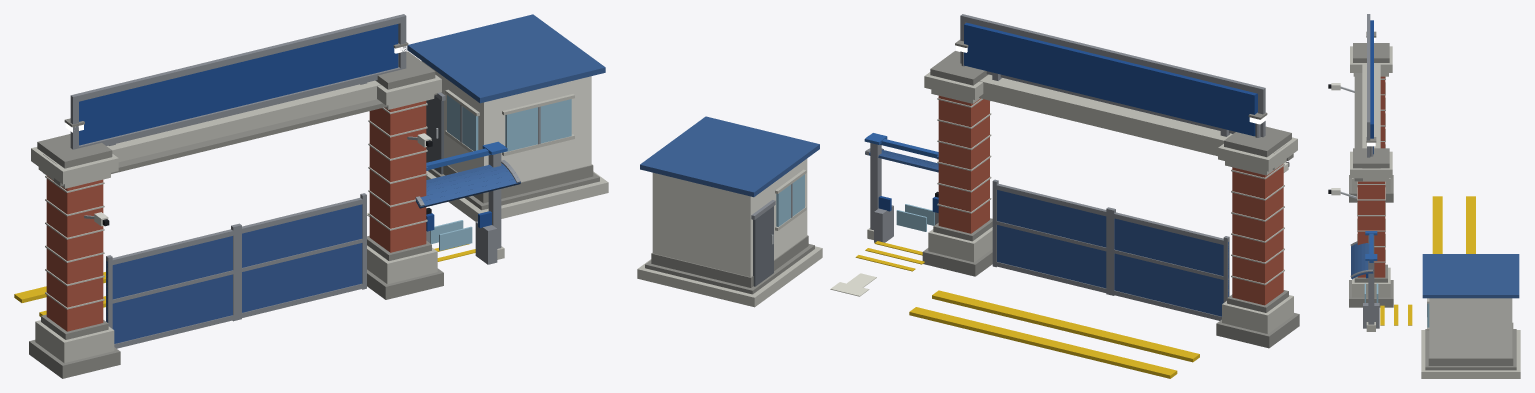
File: site_gate.glb
3 renders of one model, left to right at view 1: azimuth 30°, elevation 25°; view 2: azimuth 150°, elevation 25°; view 3: azimuth 270°, elevation 25°, orthographic. The views are drawn at different scales.
Visible parts, largest first — view 1: SiteGate, SiteGate_LeafR, SiteGate_LeafL; view 2: SiteGate, SiteGate_LeafR, SiteGate_LeafL; view 3: SiteGate.
Boxes of the visible parts, box(x1,y1,x2,y2) form: SiteGate: box(14, 14, 608, 378); SiteGate_LeafR: box(235, 193, 366, 319); SiteGate_LeafL: box(106, 224, 237, 348); SiteGate: box(637, 14, 1299, 378); SiteGate_LeafR: box(992, 179, 1111, 294); SiteGate_LeafL: box(1110, 208, 1229, 320); SiteGate: box(1328, 14, 1520, 378).
Size of the model in its own units: 16.71 by 7.08 by 6.96.
